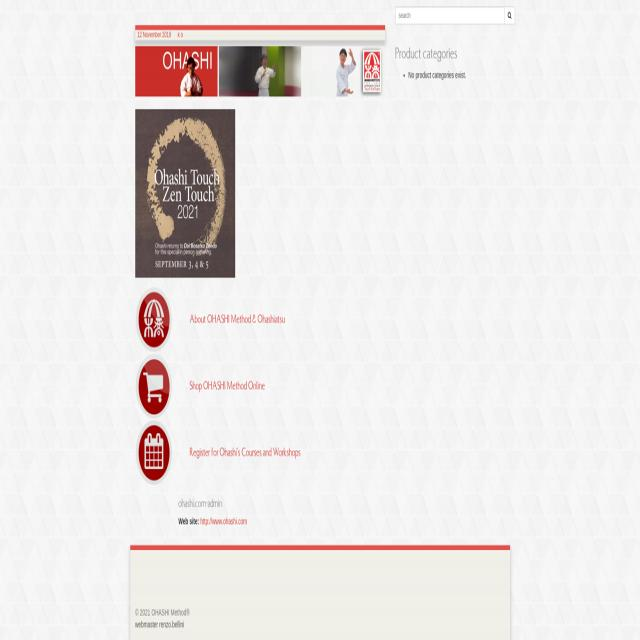button: (135, 109, 235, 277), (135, 46, 217, 97), (219, 46, 301, 97), (303, 46, 385, 97), (135, 352, 173, 419), (135, 419, 173, 486), (135, 286, 173, 352), (504, 7, 515, 25)
field: (395, 7, 504, 25)
